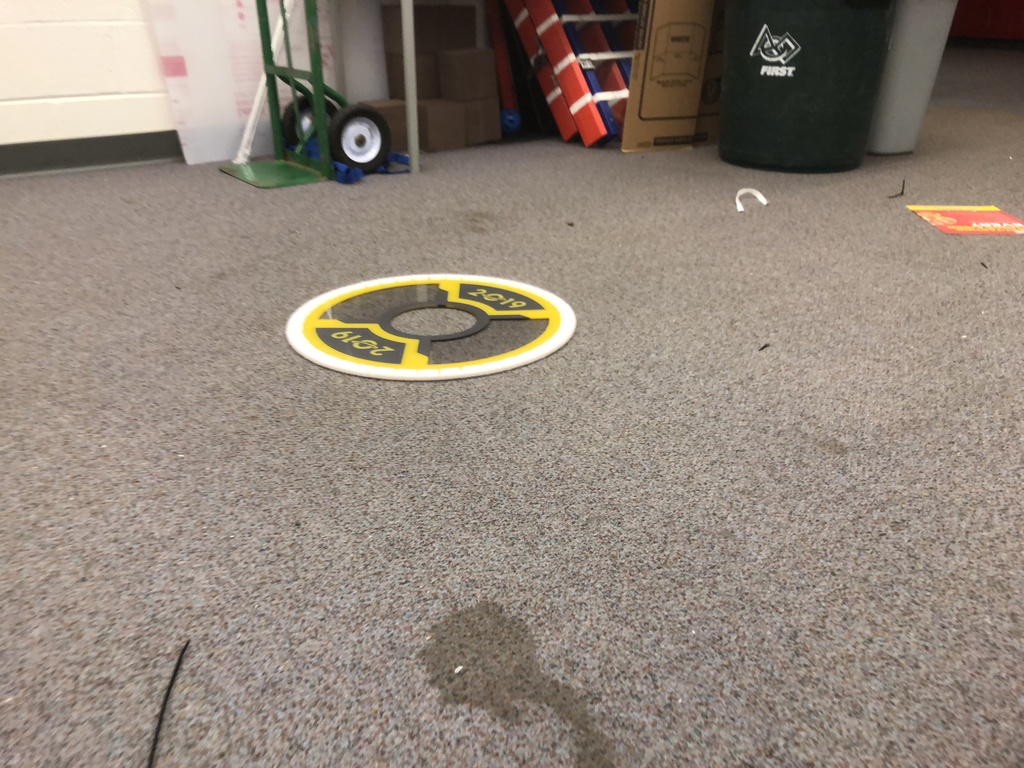hatch_panel: (275, 258, 585, 397)
